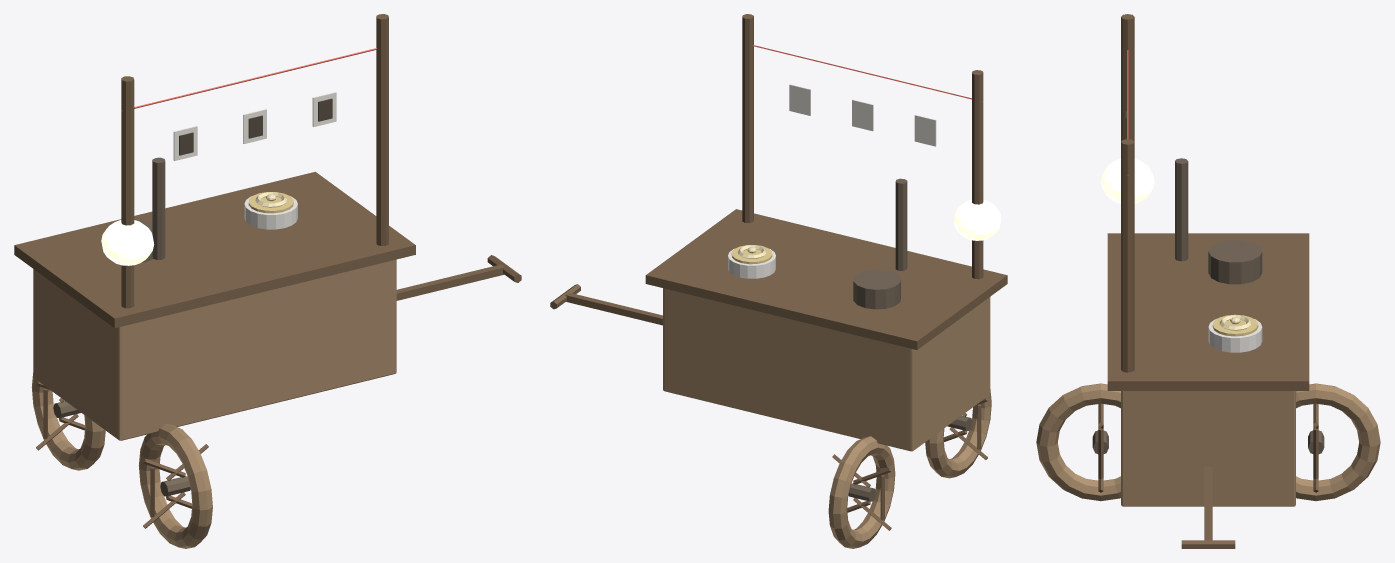
File: ramen_cart.glb
The picture shows the model from 3 angles, left to right: view 1: azimuth 30°, elevation 25°; view 2: azimuth 150°, elevation 25°; view 3: azimuth 270°, elevation 25°; orthographic projection. The views are drawn at different scales.
Parts seen in each view (by area): view 1: ramen_cart; view 2: ramen_cart; view 3: ramen_cart.
Boxes of the visible parts, x1,y1,x2,y2 form: ramen_cart: (14,14,521,548); ramen_cart: (550,14,1007,548); ramen_cart: (1036,14,1380,548).
Bounding box in the file's own units: 1.92 × 1.92 × 1.28.
